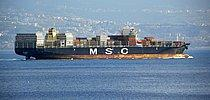Ship: (11, 24, 194, 62)
